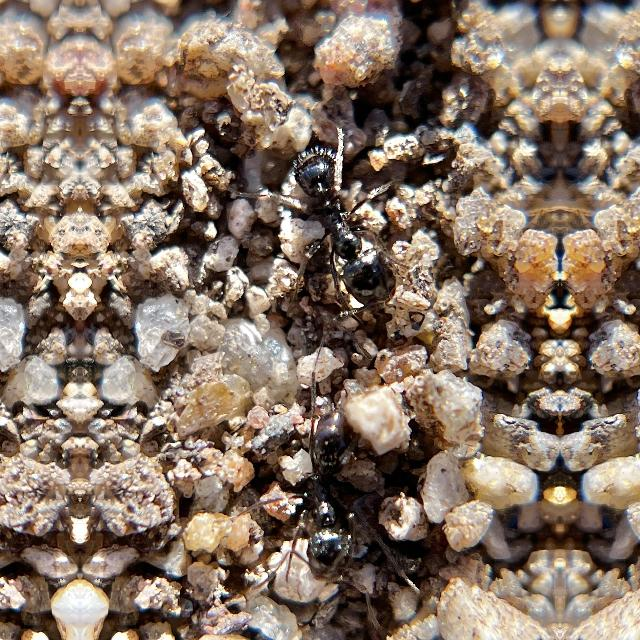Messor: (269, 109, 409, 315), (265, 400, 363, 592)
